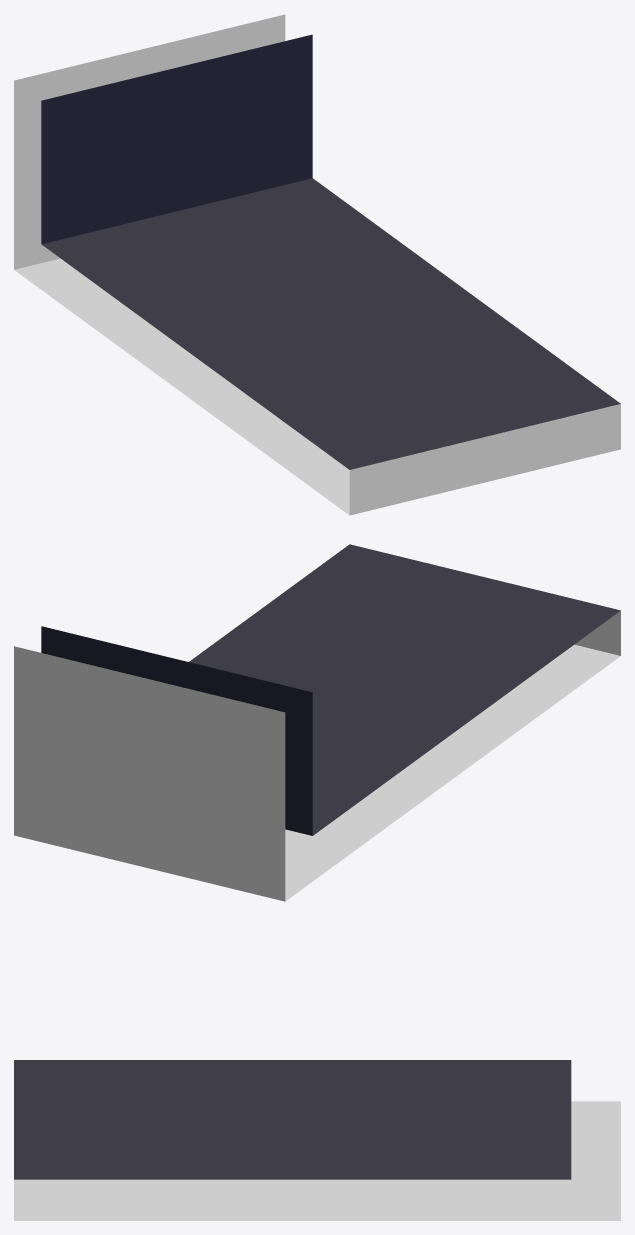
Rendered from 1U Floor.fbx.
3 renders of one model, top to bottom at view 1: azimuth 30°, elevation 25°; view 2: azimuth 150°, elevation 25°; view 3: azimuth 270°, elevation 25°, orthographic. The views are drawn at different scales.
Visible parts, largest first — view 1: 1U Floor; view 2: 1U Floor; view 3: 1U Floor.
Part boxes in pixels (<box>): 1U Floor: <box>14,14,620,515</box>; 1U Floor: <box>14,544,620,901</box>; 1U Floor: <box>14,1060,620,1220</box>.
Size of the model in its own units: 373 by 249 by 799.
